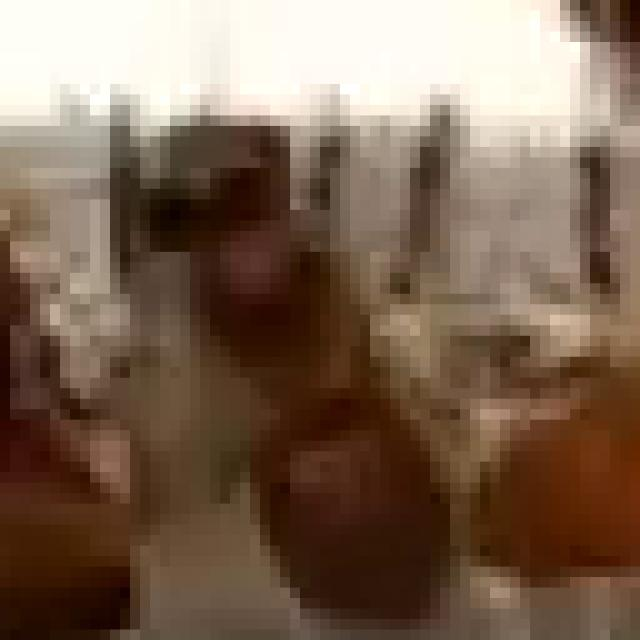honeybee: (120, 98, 438, 614)
